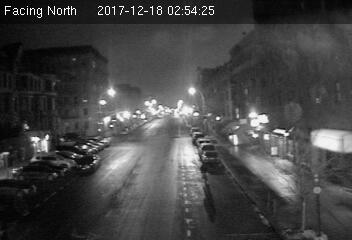car: (75, 154, 99, 172), (202, 150, 221, 163)
